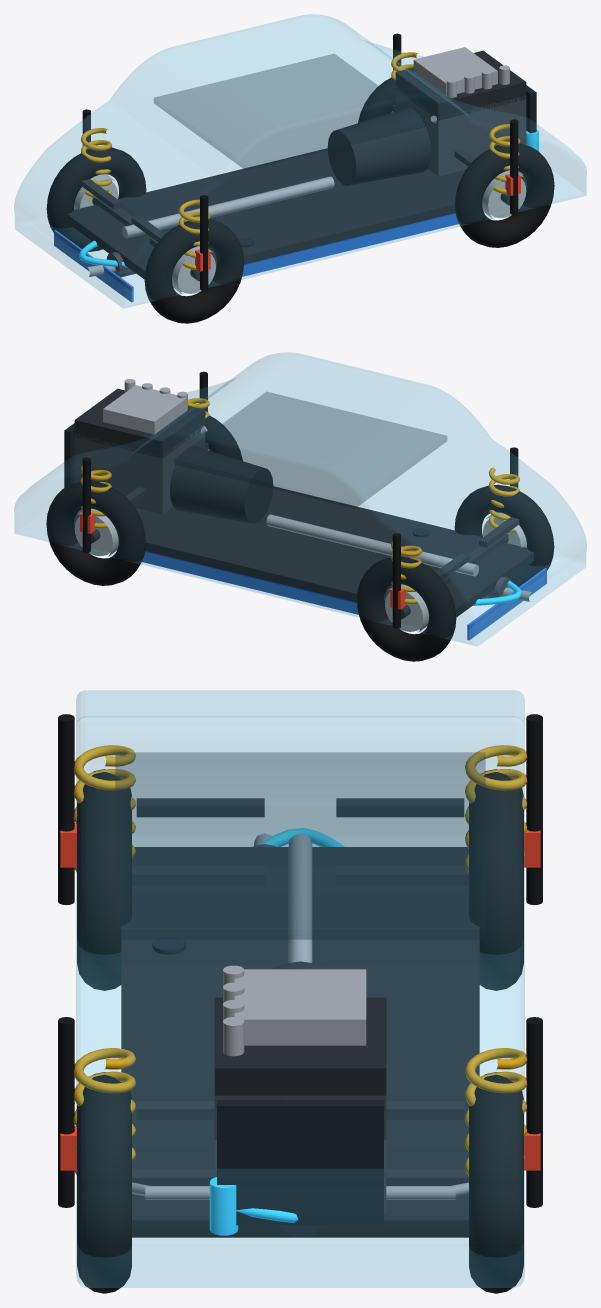
Rendered from car_anatomy.glb.
The picture shows the model from 3 angles, top to bottom: view 1: azimuth 30°, elevation 25°; view 2: azimuth 150°, elevation 25°; view 3: azimuth 270°, elevation 25°; orthographic projection. The views are drawn at different scales.
Parts seen in each view (by area): view 1: BodyShell, FloorPan, WindowGlass, TireFL, TireRL, Transmission, EngineBlock, TireRR, CylinderHead, BatteryCase, IntakeManifold, DriveShaft (+12 smaller); view 2: BodyShell, FloorPan, WindowGlass, TireFR, TireRR, Transmission, EngineBlock, TireRL, CylinderHead, IntakeManifold, BatteryCase, DriveShaft (+12 smaller); view 3: BodyShell, FloorPan, WindowGlass, Radiator, TireFL, TireFR, CylinderHead, TireRR, TireRL, IntakeManifold, DriveShaft, ControlArmRL (+20 smaller).
Boxes of the visible parts, x1,y1,x2,y2 form: BodyShell: [14, 14, 586, 308]; FloorPan: [67, 148, 527, 279]; WindowGlass: [154, 54, 426, 170]; TireFL: [455, 143, 554, 247]; TireRL: [144, 219, 244, 323]; Transmission: [327, 108, 430, 185]; EngineBlock: [395, 86, 526, 176]; TireRR: [46, 147, 146, 251]; CylinderHead: [395, 50, 526, 120]; BatteryCase: [180, 213, 458, 291]; IntakeManifold: [413, 47, 497, 96]; DriveShaft: [122, 176, 334, 238]; BodyShell: [14, 352, 586, 646]; FloorPan: [73, 486, 533, 617]; WindowGlass: [174, 392, 446, 508]; TireFR: [46, 481, 145, 585]; TireRR: [356, 556, 456, 661]; Transmission: [170, 446, 273, 523]; EngineBlock: [74, 425, 205, 514]; TireRL: [454, 484, 554, 586]; CylinderHead: [74, 388, 205, 458]; IntakeManifold: [103, 385, 187, 434]; BatteryCase: [142, 551, 420, 629]; DriveShaft: [266, 514, 478, 576]; BodyShell: [76, 690, 524, 1287]; FloorPan: [121, 847, 479, 1237]; WindowGlass: [115, 752, 485, 939]; Radiator: [217, 1100, 383, 1225]; TireFL: [77, 1072, 131, 1293]; TireFR: [469, 1072, 523, 1293]; CylinderHead: [214, 982, 386, 1100]; TireRR: [469, 769, 523, 990]; TireRL: [77, 769, 131, 990]; IntakeManifold: [234, 969, 366, 1045]; DriveShaft: [288, 834, 312, 962]; ControlArmRL: [132, 865, 264, 885].
Size of the model in its own units: 4.49 by 1.65 by 2.03.
